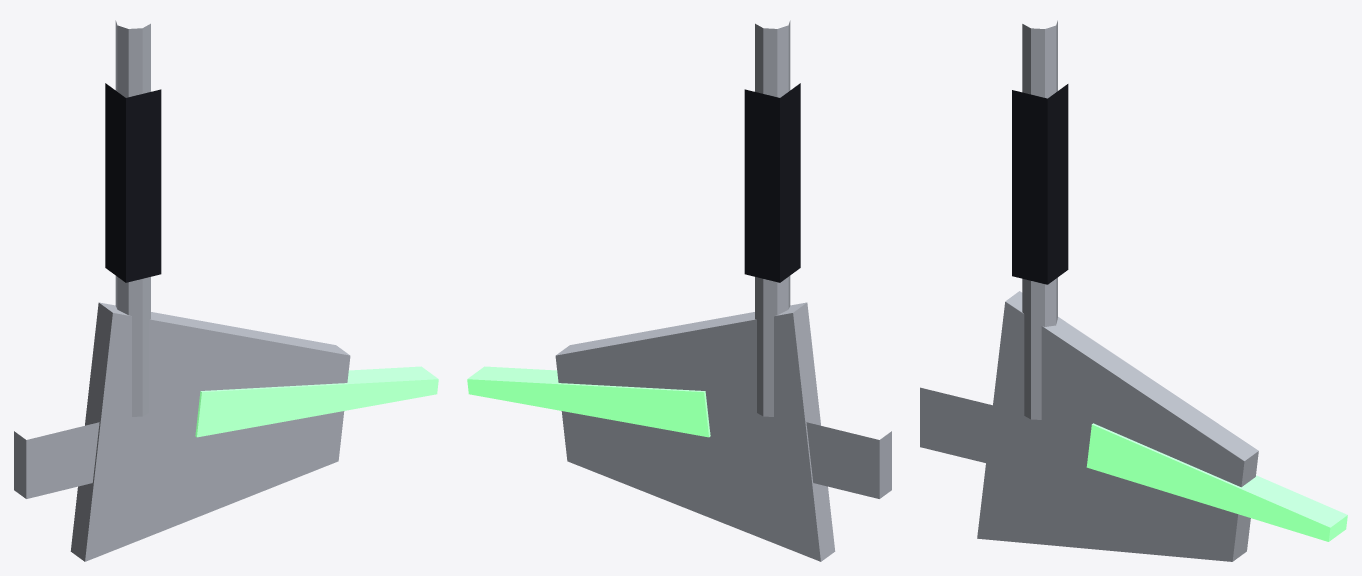
Rendered from battlefury.glb.
3 views of the same model, side by side, from view 1: azimuth 30°, elevation 25°; view 2: azimuth 150°, elevation 25°; view 3: azimuth 330°, elevation 25° (orthographic).
Visible parts, largest first — view 1: battlefury-cleaver, battlefury-grip-wrap, battlefury-energy-edge, battlefury-haft, battlefury-back-spike; view 2: battlefury-cleaver, battlefury-grip-wrap, battlefury-energy-edge, battlefury-haft, battlefury-back-spike; view 3: battlefury-cleaver, battlefury-grip-wrap, battlefury-energy-edge, battlefury-haft, battlefury-back-spike.
Part boxes in pixels (bbox=[...]): battlefury-cleaver: bbox=[70, 302, 350, 561]; battlefury-grip-wrap: bbox=[105, 83, 161, 282]; battlefury-energy-edge: bbox=[195, 366, 438, 437]; battlefury-haft: bbox=[115, 20, 150, 416]; battlefury-back-spike: bbox=[14, 422, 99, 498]; battlefury-cleaver: bbox=[555, 302, 835, 561]; battlefury-grip-wrap: bbox=[744, 83, 800, 282]; battlefury-energy-edge: bbox=[467, 366, 710, 437]; battlefury-haft: bbox=[755, 20, 790, 416]; battlefury-back-spike: bbox=[806, 422, 891, 498]; battlefury-cleaver: bbox=[977, 291, 1258, 561]; battlefury-grip-wrap: bbox=[1012, 84, 1068, 284]; battlefury-energy-edge: bbox=[1086, 423, 1347, 541]; battlefury-haft: bbox=[1022, 20, 1057, 419]; battlefury-back-spike: bbox=[920, 387, 992, 462].
Size of the model in its own units: 1.16 by 1.41 by 0.1.
